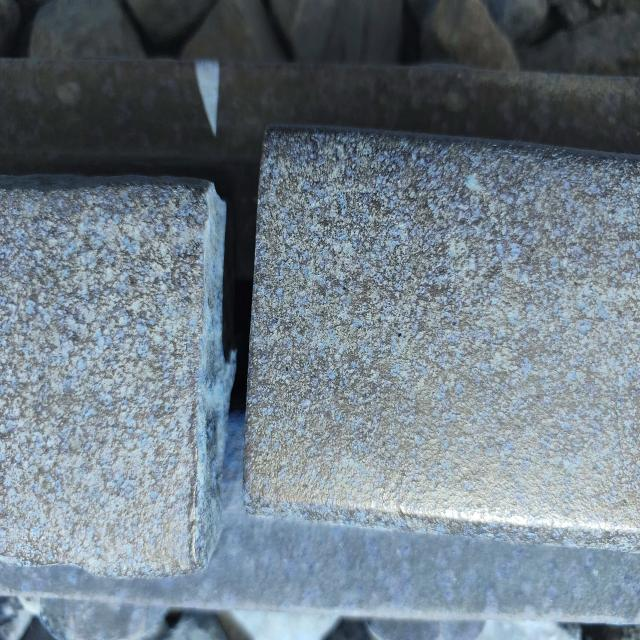broken_rail_low: (176, 122, 299, 588)
